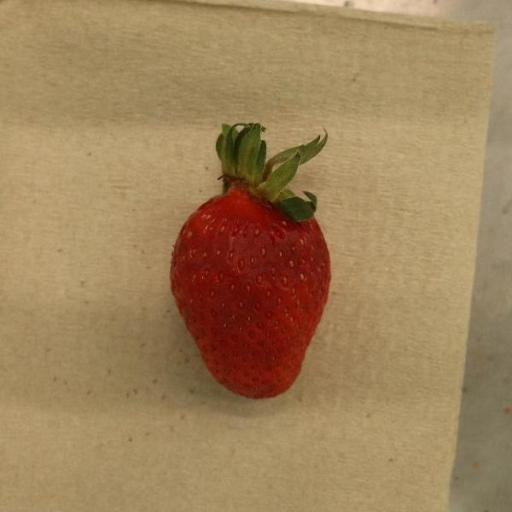Strawberry: (170, 123, 331, 399)
